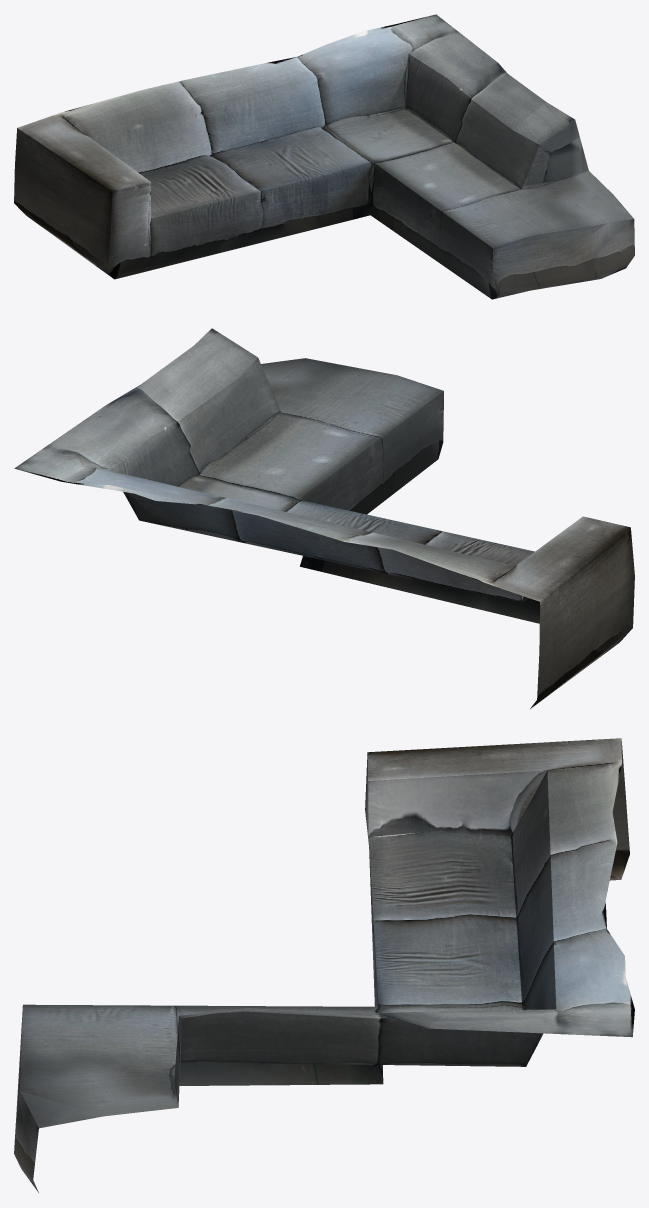
The model's file is Couch-IM.fbx.
The picture shows the model from 3 angles, top to bottom: view 1: azimuth 30°, elevation 25°; view 2: azimuth 150°, elevation 25°; view 3: azimuth 270°, elevation 25°; orthographic projection. The views are drawn at different scales.
Visible parts, largest first — view 1: Couch-IM; view 2: Couch-IM; view 3: Couch-IM.
Part boxes in pixels (x1,y1,x2,y2): Couch-IM: (14, 14, 634, 299); Couch-IM: (14, 328, 634, 708); Couch-IM: (14, 738, 634, 1192).
Bounding box in the file's own units: 277 × 73.79 × 233.
1 material, 1 textured.
